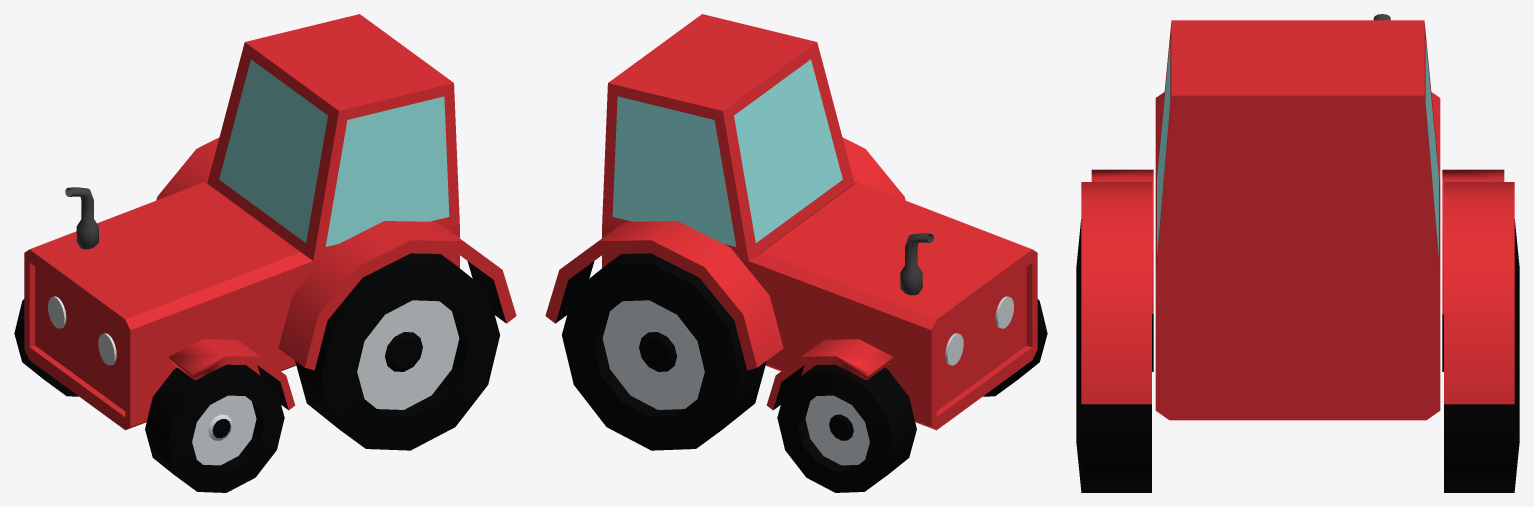
File: tractor.fbx
3 renders of one model, left to right at view 1: azimuth 30°, elevation 25°; view 2: azimuth 150°, elevation 25°; view 3: azimuth 270°, elevation 25°, orthographic. The views are drawn at different scales.
Visible parts, largest first — view 1: cotxe; view 2: cotxe; view 3: cotxe.
Part boxes in pixels (x1,y1,x2,y2): cotxe: (14, 14, 516, 492); cotxe: (545, 14, 1047, 492); cotxe: (1076, 14, 1519, 492).
Bounding box in the file's own units: 604 × 524 × 482.
